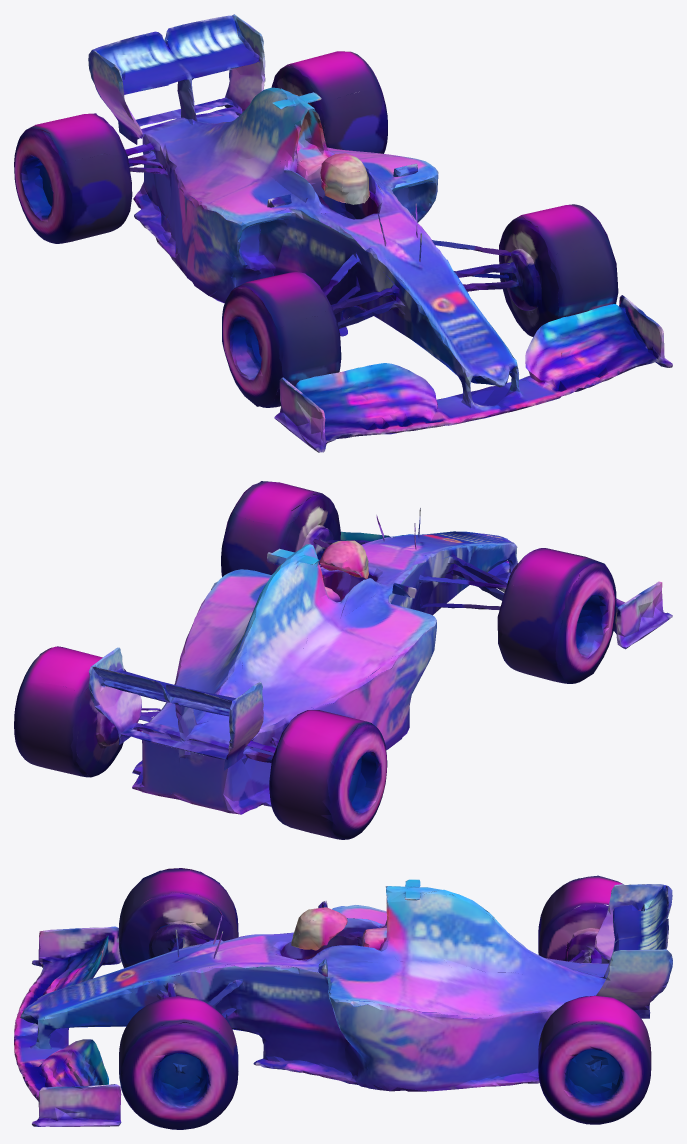
The picture shows the model from 3 angles, top to bottom: view 1: azimuth 30°, elevation 25°; view 2: azimuth 150°, elevation 25°; view 3: azimuth 270°, elevation 25°; orthographic projection. The views are drawn at different scales.
Parts seen in each view (by area): view 1: body, wheel_front_L, wheel_front_R, wheel_rear_L, wheel_rear_R; view 2: body, wheel_rear_L, wheel_front_L, wheel_rear_R, wheel_front_R; view 3: body, wheel_rear_R, wheel_front_R, wheel_front_L, wheel_rear_L.
Boxes of the visible parts, <box> form: body: <box>24,14,651,434</box>; wheel_front_L: <box>229,249,435,452</box>; wheel_front_R: <box>427,203,672,387</box>; wheel_rear_L: <box>14,128,245,296</box>; wheel_rear_R: <box>271,61,430,221</box>; body: <box>23,481,616,814</box>; wheel_rear_L: <box>269,724,404,839</box>; wheel_front_L: <box>490,569,672,683</box>; wheel_rear_R: <box>14,663,227,777</box>; wheel_front_R: <box>221,494,390,576</box>; body: <box>14,868,672,1129</box>; wheel_rear_R: <box>344,1010,651,1124</box>; wheel_front_R: <box>24,1010,238,1129</box>; wheel_front_L: <box>26,885,238,997</box>; wheel_rear_L: <box>538,892,571,961</box>.
Size of the model in its own units: 2.37 by 1.13 by 4.
Materials: 1 (1 with a texture image).
